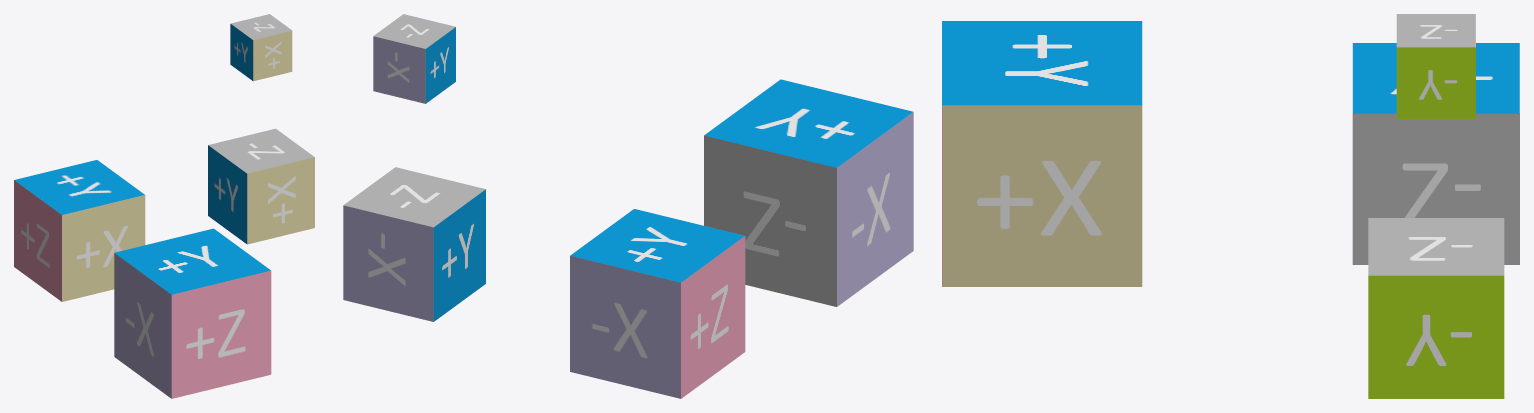
File: multi-cube.fbx
3 views of the same model, side by side, from view 1: azimuth 30°, elevation 25°; view 2: azimuth 150°, elevation 25°; view 3: azimuth 270°, elevation 25° (orthographic). The views are drawn at different scales.
Parts seen in each view (by area): view 1: pCube1, pCube2, pCube3, pCube4; view 2: pCube1, pCube2, pCube3, pCube4; view 3: pCube1, pCube2, pCube3, pCube4.
Part boxes in pixels (left/top/right/bottom): pCube1: left=114, top=228, right=271, bottom=398; pCube2: left=14, top=160, right=145, bottom=301; pCube3: left=208, top=128, right=314, bottom=244; pCube4: left=230, top=14, right=292, bottom=81; pCube1: left=704, top=79, right=913, bottom=306; pCube2: left=570, top=209, right=745, bottom=398; pCube3: left=343, top=167, right=485, bottom=321; pCube4: left=373, top=14, right=455, bottom=103; pCube1: left=942, top=21, right=1142, bottom=286; pCube2: left=1352, top=43, right=1519, bottom=264; pCube3: left=1368, top=218, right=1504, bottom=398; pCube4: left=1396, top=14, right=1475, bottom=118.
Size of the model in its own units: 2.67 by 2.03 by 2.89.
Materials: 1 (1 with a texture image).
